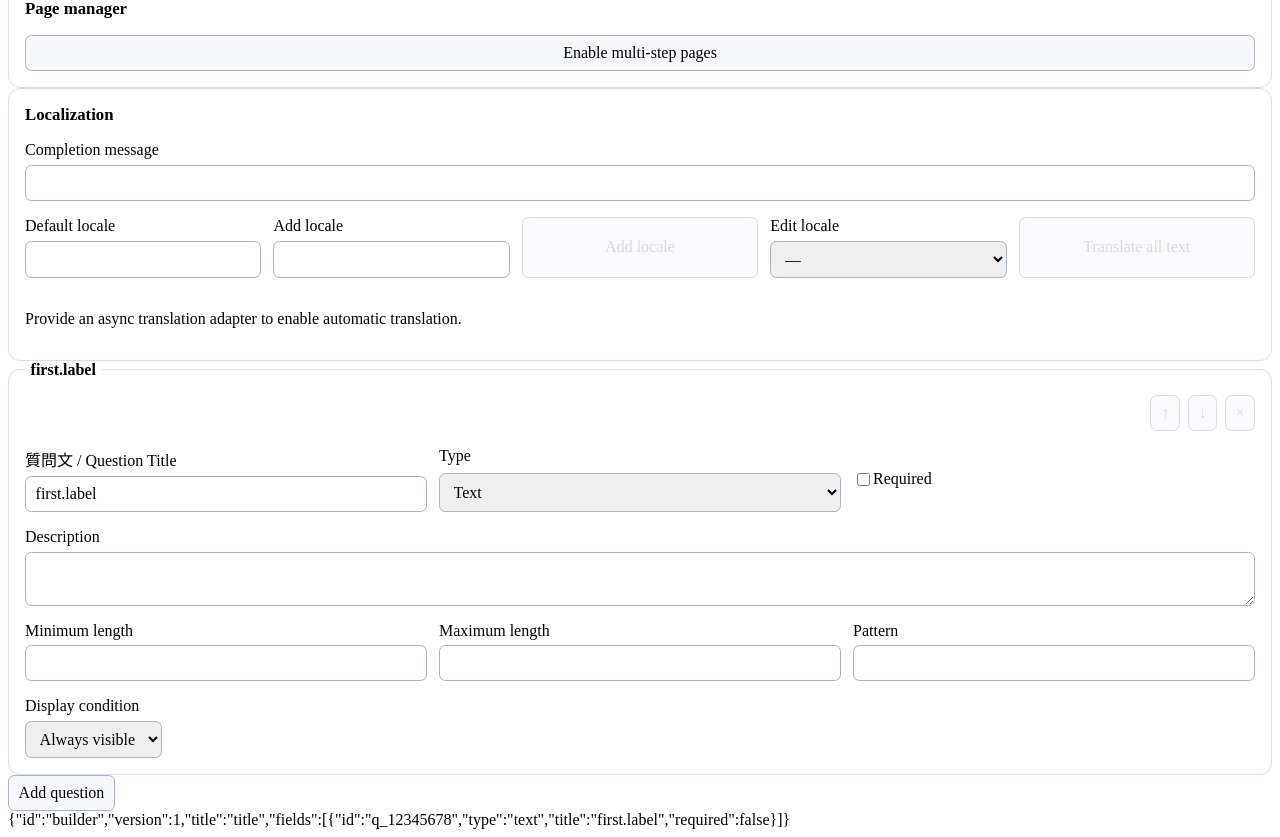
Test: React form engine › edits schema through the accessible builder controls
The width and height of the screenshot is (1280, 837).
(page scrolled)
Expected: the button named "Delete first.label" is disabled, [1225,395,1255,431]
Click the button "Add question" at (62, 793), box [8,775,115,811]
(page scrolled)
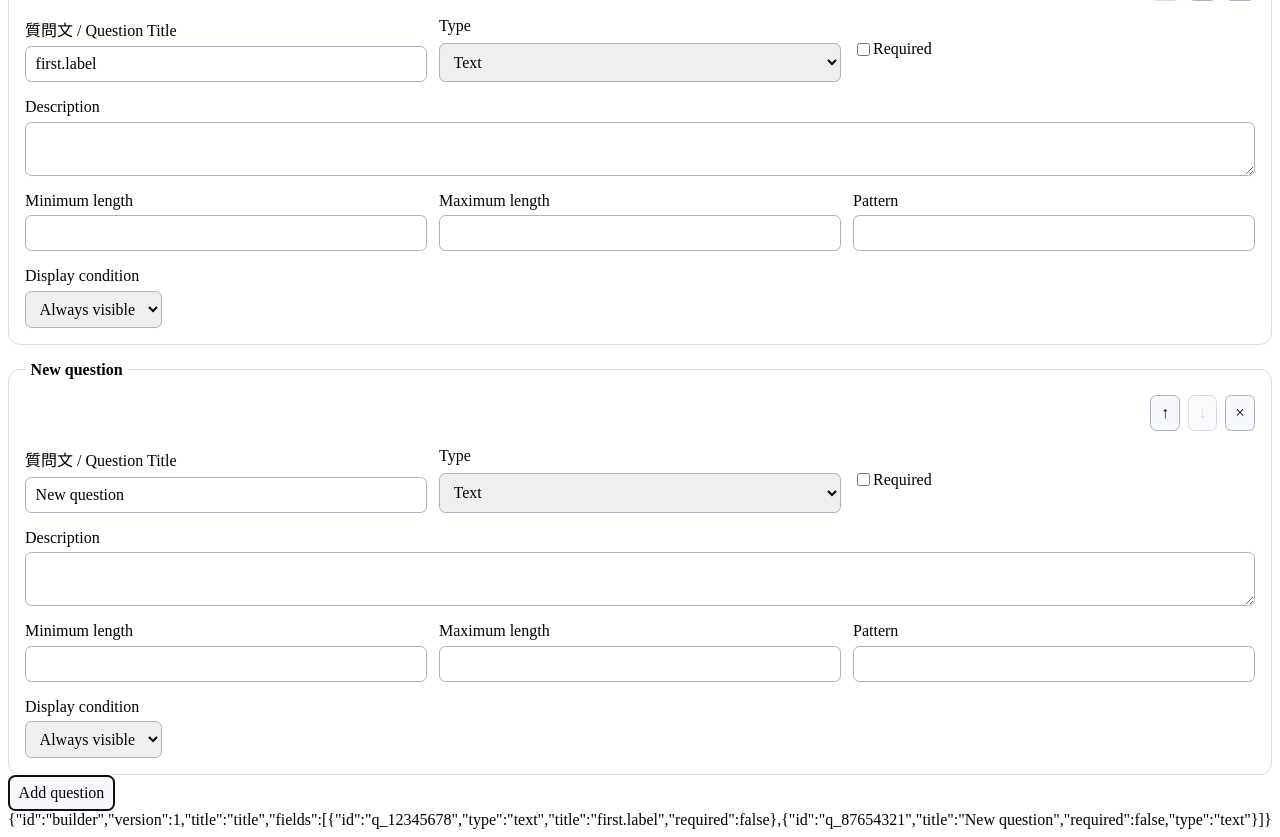
Expected: the button named "Move New question up" is enabled, [1150,395,1180,431]
Expected: the text "\"q_87654321\"" is shown, [8,811,1272,828]
Select "Select" in the 2nd dropdown labelled "Type" at (640, 493), box [439,473,841,513]
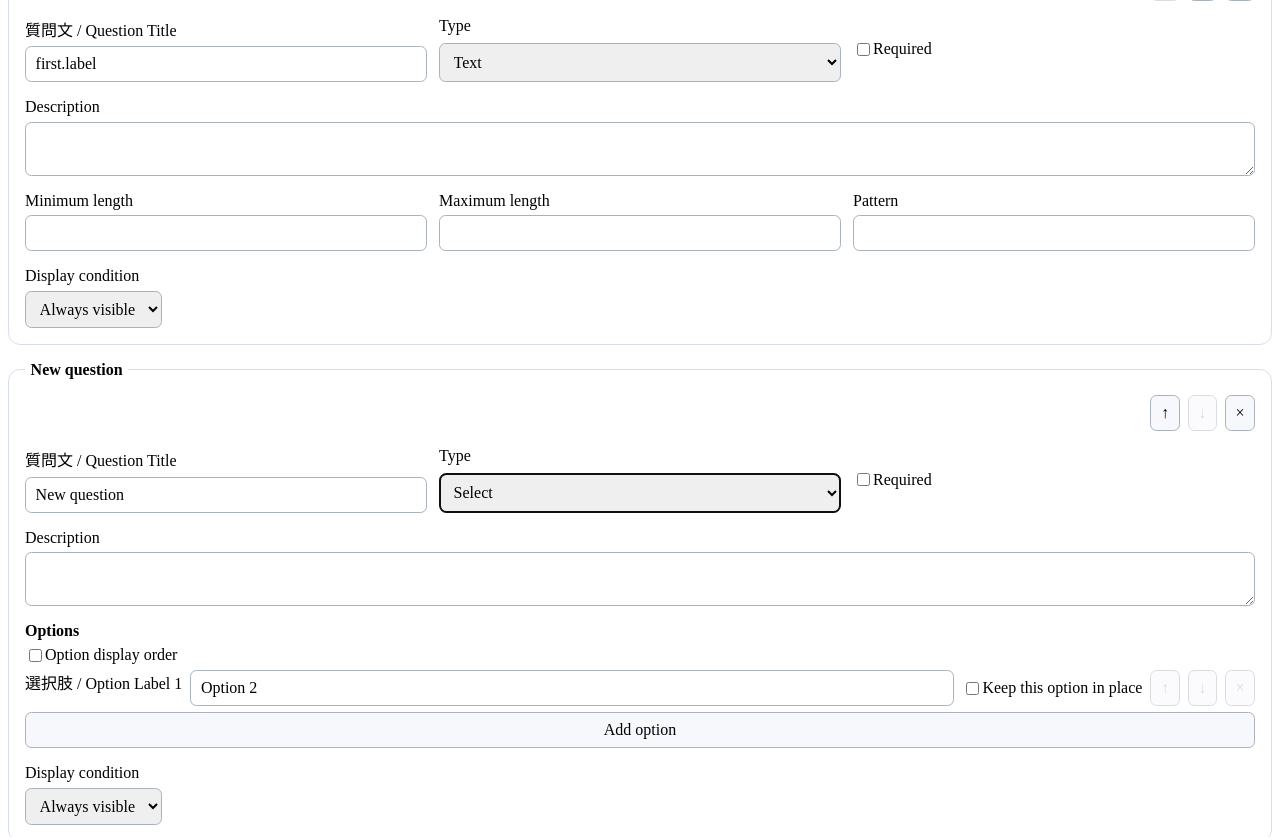
Expected: the button "Add option" is shown, [25,712,1255,748]
Select "first.label" in the dropdown labelled "Display condition" below "選択肢 / Option Label 1" at (94, 806), box [25,788,162,824]
(page scrolled)
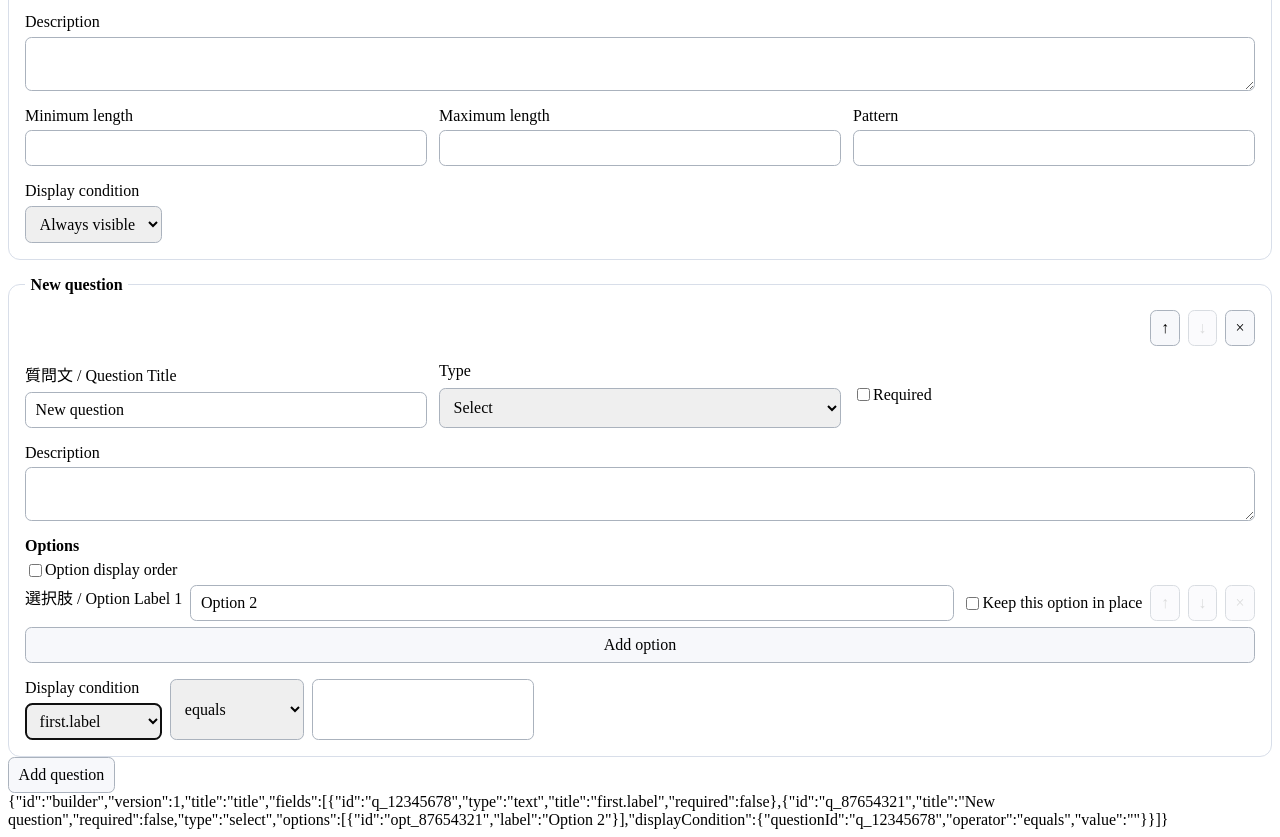
Expected: the dropdown named "Condition operator" is shown, [170,679,304,740]
Expected: the text "displayCondition" is shown, [8,792,1168,828]
